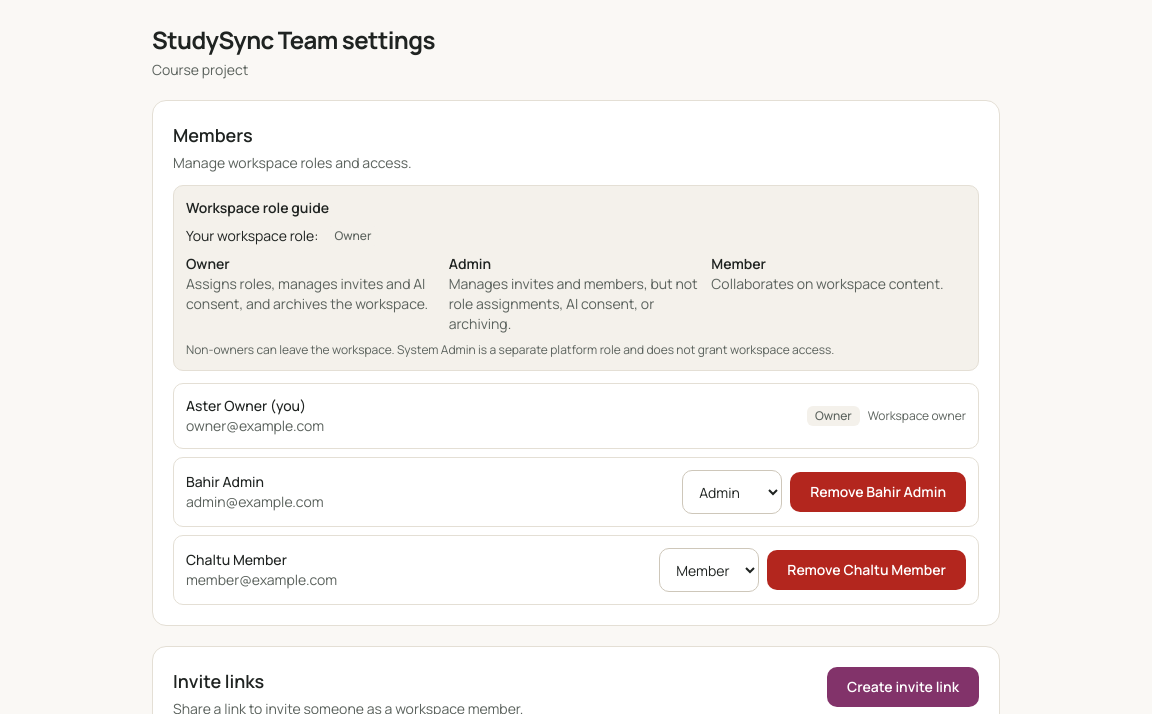
it: WorkspaceSettingsPage › TC-WS-02: creates a no-expiry invite, copies its link, and revokes it
expect the heading "StudySync Team settings" is shown: met, box [152, 23, 435, 56]
Click the button "Create invite link".
click(903, 687)  # box [827, 667, 979, 707]
(page scrolled)
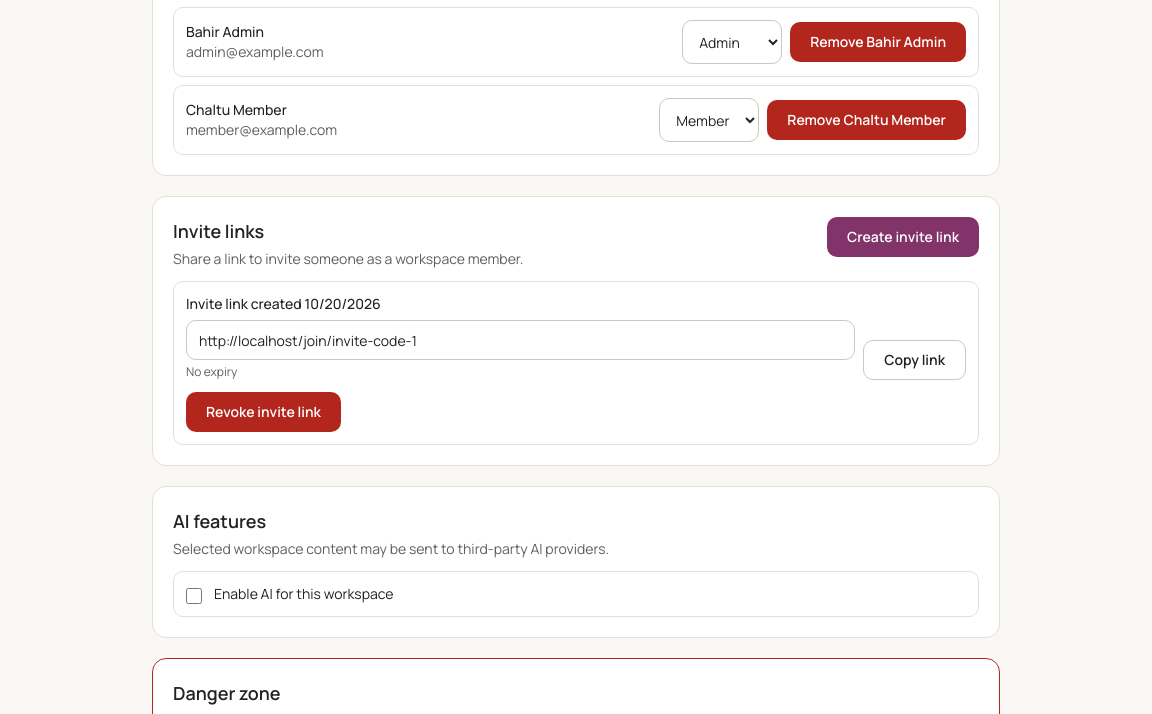
expect the text "No expiry" is shown: met, box [186, 363, 237, 380]
Click the button "Copy link".
click(915, 360)  # box [863, 340, 966, 380]
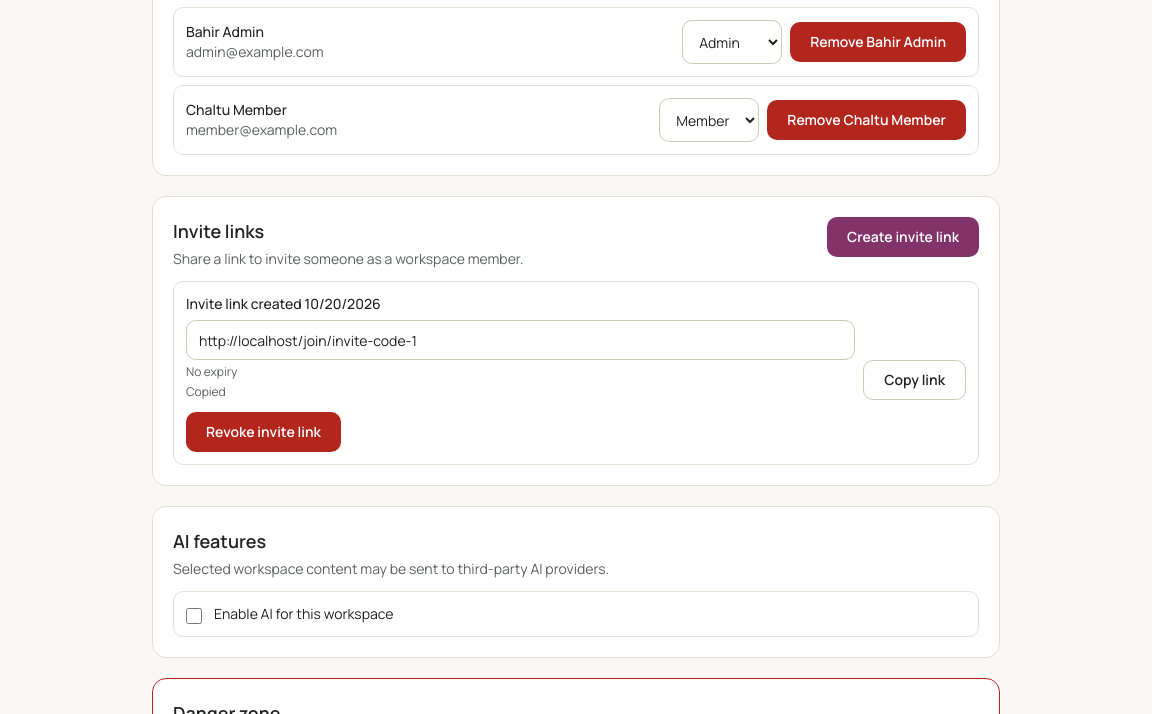
expect the text "Copied" is shown: met, box [186, 383, 226, 400]
Click the button "Revoke invite link".
click(263, 432)  # box [186, 412, 341, 452]
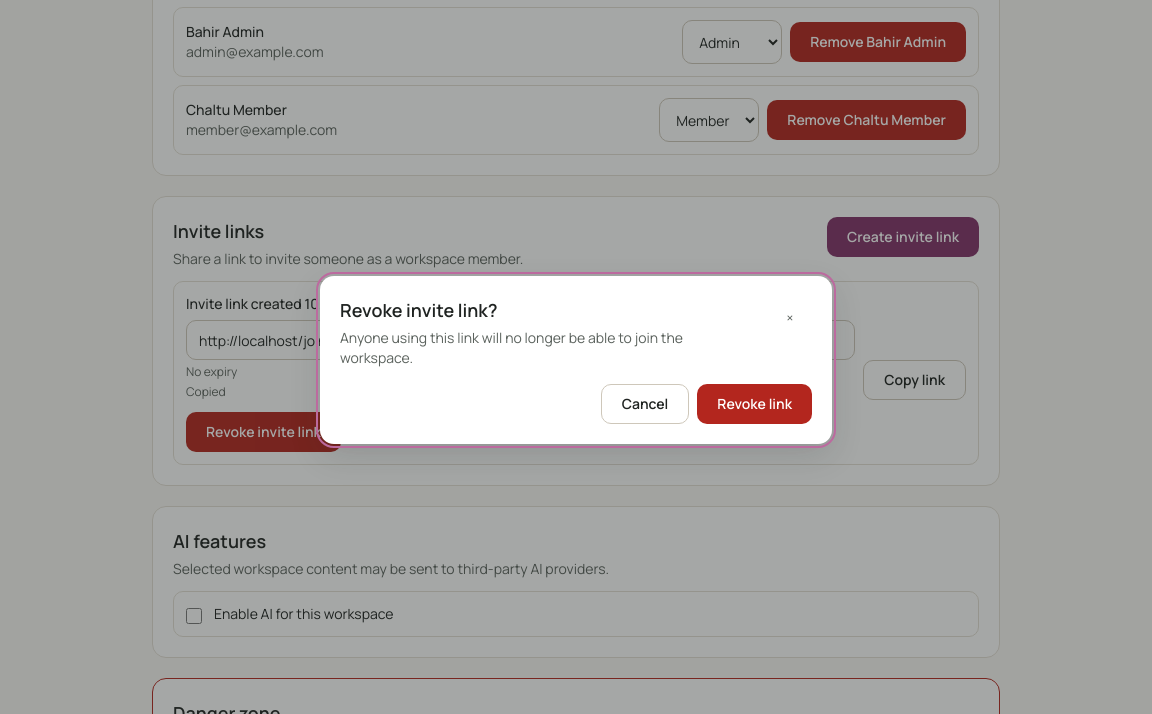
Click the button "Revoke link".
click(755, 404)  # box [697, 384, 812, 424]
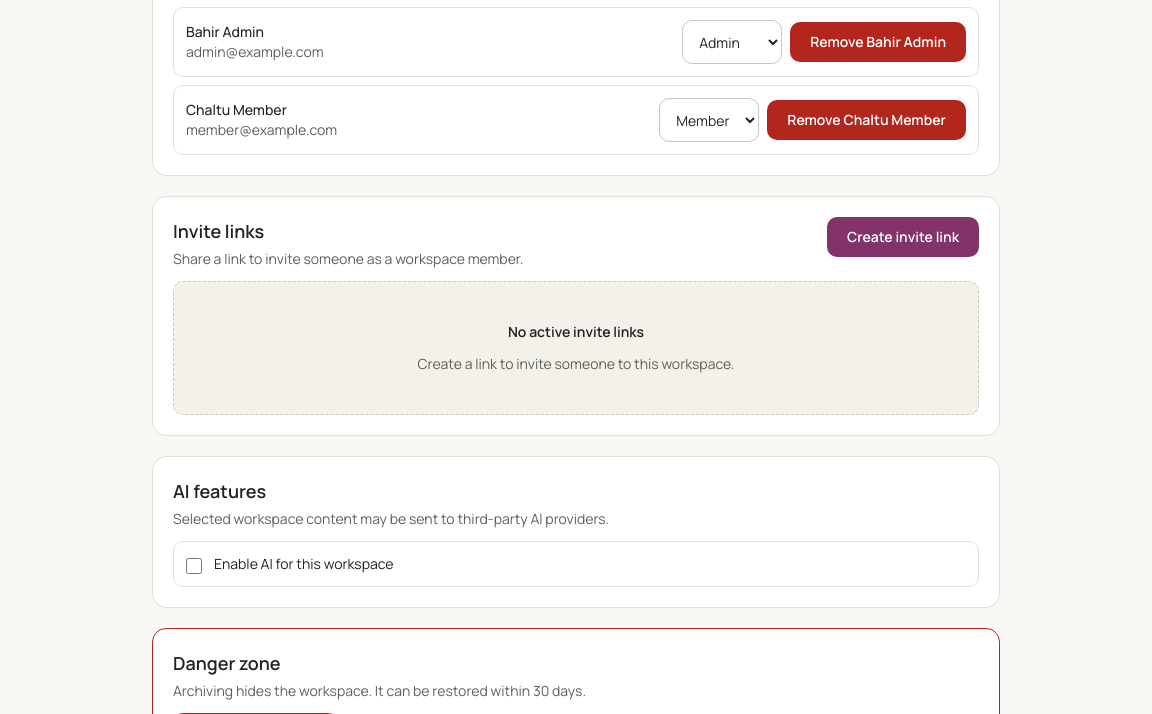
expect the heading "No active invite links" is shown: met, box [508, 322, 644, 342]
